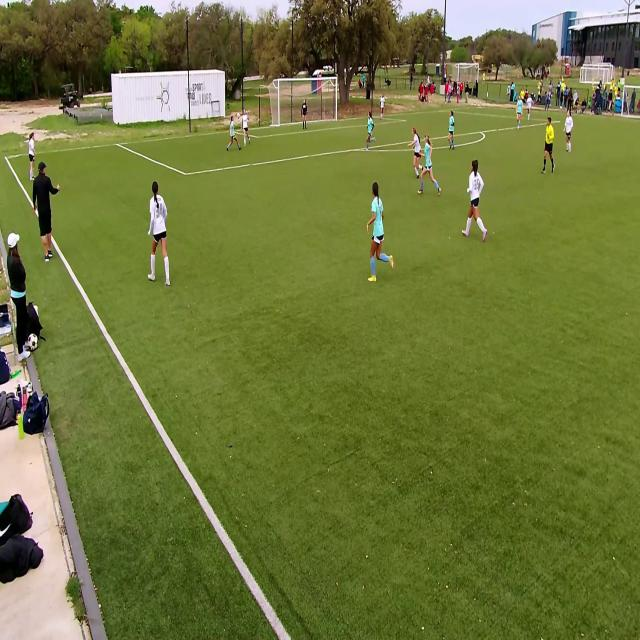ball: (236, 113, 241, 119)
team1: (367, 181, 392, 285), (420, 134, 441, 197), (227, 114, 240, 153), (366, 112, 376, 152), (448, 109, 457, 152), (516, 92, 524, 130)
team2: (148, 181, 174, 286), (464, 162, 489, 241), (25, 130, 38, 182), (411, 126, 423, 176), (566, 112, 576, 156), (242, 107, 251, 149), (525, 93, 532, 123), (380, 93, 386, 121)
